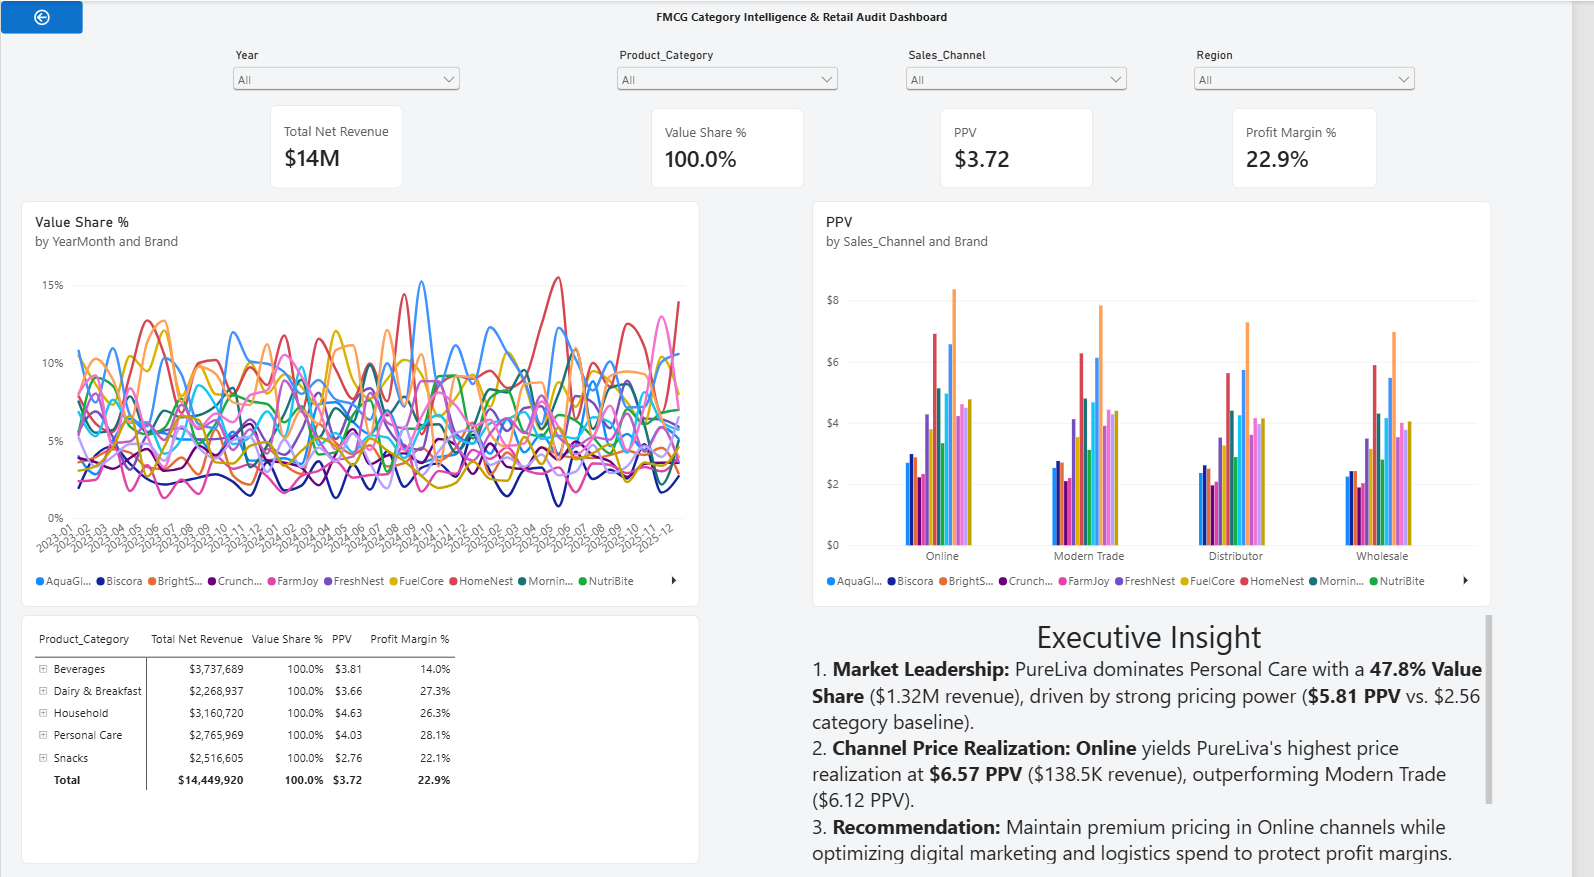

The page's visual inventory and layout, read from the dashboard file:
{"tool":"powerbi","page":{"name":"Page 1","canvas":[1920,1080],"ordinal":0},"visuals":[{"type":"slicer","fields":{"Values":["Dim_Date.Year"]},"box":[278.6,57.4,287.1,53.8],"z":0},{"type":"slicer","fields":{"Values":["fmcg_sales_marketing_profitability_2023_2025.Product_Category"]},"box":[747.7,57.4,279.8,53.8],"z":1000},{"type":"slicer","fields":{"Values":["fmcg_sales_marketing_profitability_2023_2025.Sales_Channel"]},"box":[1100.8,57.4,279.8,55],"z":2000},{"type":"slicer","fields":{"Values":["fmcg_sales_marketing_profitability_2023_2025.Region"]},"box":[1452.6,57.4,279.8,55],"z":3000},{"type":"actionButton","box":[0,0,100,40],"z":4000},{"type":"cardVisual","fields":{"Data":["_Measures.Total Net Revenue"]},"box":[328.6,127.1,162.4,102.7],"z":5000},{"type":"cardVisual","fields":{"Data":["_Measures.Value Share %"]},"box":[794.1,130.7,187.4,98.6],"z":6000},{"type":"cardVisual","fields":{"Data":["_Measures.PPV"]},"box":[1147.2,130.7,187.4,98.6],"z":7000},{"type":"cardVisual","fields":{"Data":["_Measures.Profit Margin %"]},"box":[1503.9,130.7,177.7,98.6],"z":8000},{"type":"lineChart","fields":{"Category":["Dim_Date.YearMonth"],"Series":["fmcg_sales_marketing_profitability_2023_2025.Brand"],"Y":["_Measures.Value Share %"]},"box":[25,244.3,828.8,495.6],"z":9000},{"type":"clusteredColumnChart","fields":{"Category":["fmcg_sales_marketing_profitability_2023_2025.Sales_Channel"],"Series":["fmcg_sales_marketing_profitability_2023_2025.Brand"],"Y":["_Measures.PPV"]},"box":[990.8,244.3,830.2,495.6],"z":10000},{"type":"pivotTable","fields":{"Rows":["fmcg_sales_marketing_profitability_2023_2025.Product_Category","fmcg_sales_marketing_profitability_2023_2025.Brand","fmcg_sales_marketing_profitability_2023_2025.SKU"],"Values":["_Measures.Total Net Revenue","_Measures.Value Share %","_Measures.PPV","_Measures.Profit Margin %"]},"box":[25,749.7,828.8,304],"z":11000},{"type":"textbox","box":[990.8,750.1,830.8,304.2],"z":11501},{"type":"textbox","box":[653.6,9.8,650,47.6],"z":11502}]}

Visuals, with their boxes on the page's 1920x1080 design canvas (x1, y1, x2, y2). These are canvas units, not pixel positions in the 1594x877 screenshot, which may show the page scaled, cropped or inside an application window:
slicer - Dim_Date.Year: locate(279, 57, 566, 111)
slicer - fmcg_sales_marketing_profitability_2023_2025.Product_Category: locate(748, 57, 1028, 111)
slicer - fmcg_sales_marketing_profitability_2023_2025.Sales_Channel: locate(1101, 57, 1381, 112)
slicer - fmcg_sales_marketing_profitability_2023_2025.Region: locate(1453, 57, 1732, 112)
actionButton: locate(0, 0, 100, 40)
cardVisual - _Measures.Total Net Revenue: locate(329, 127, 491, 230)
cardVisual - _Measures.Value Share %: locate(794, 131, 982, 229)
cardVisual - _Measures.PPV: locate(1147, 131, 1335, 229)
cardVisual - _Measures.Profit Margin %: locate(1504, 131, 1682, 229)
lineChart - Dim_Date.YearMonth x fmcg_sales_marketing_profitability_2023_2025.Brand: locate(25, 244, 854, 740)
clusteredColumnChart - fmcg_sales_marketing_profitability_2023_2025.Sales_Channel x fmcg_sales_marketing_profitability_2023_2025.Brand: locate(991, 244, 1821, 740)
pivotTable - fmcg_sales_marketing_profitability_2023_2025.Product_Category x fmcg_sales_marketing_profitability_2023_2025.Brand: locate(25, 750, 854, 1054)
textbox: locate(991, 750, 1822, 1054)
textbox: locate(654, 10, 1304, 57)
